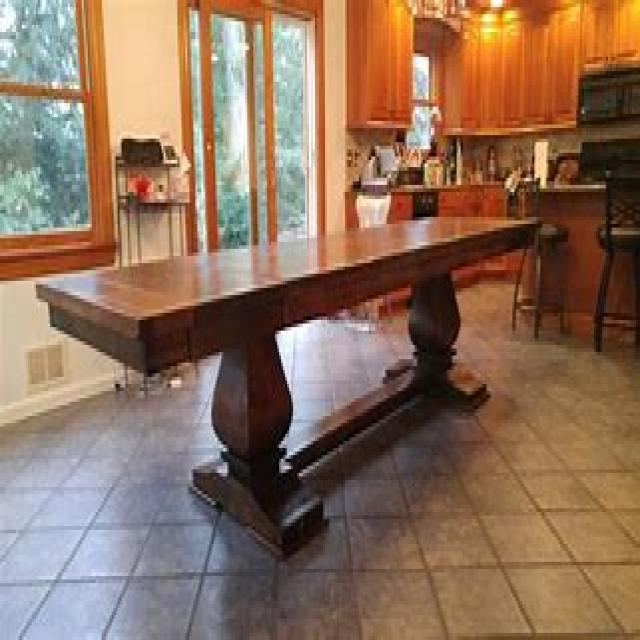chair: (592, 160, 638, 352)
table: (34, 210, 550, 558)
